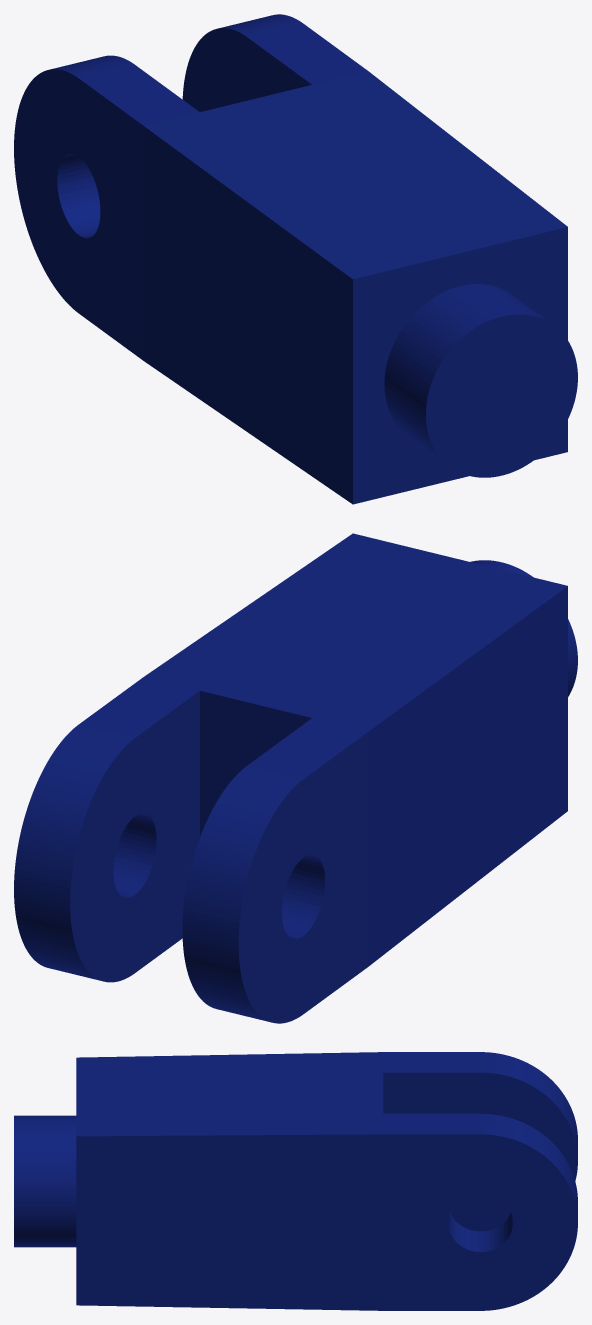
3 views of the same model, one above another, from view 1: azimuth 30°, elevation 25°; view 2: azimuth 150°, elevation 25°; view 3: azimuth 270°, elevation 25° (orthographic). The views are drawn at different scales.
Parts seen in each view (by area): view 1: node; view 2: node; view 3: node.
Part boxes in pixels (x1=…): node: x1=14, y1=14, x2=577, y2=504; node: x1=14, y1=533, x2=577, y2=1023; node: x1=14, y1=1052, x2=577, y2=1310.
Size of the model in its own units: 0.0476 by 0.0476 by 0.1378.
